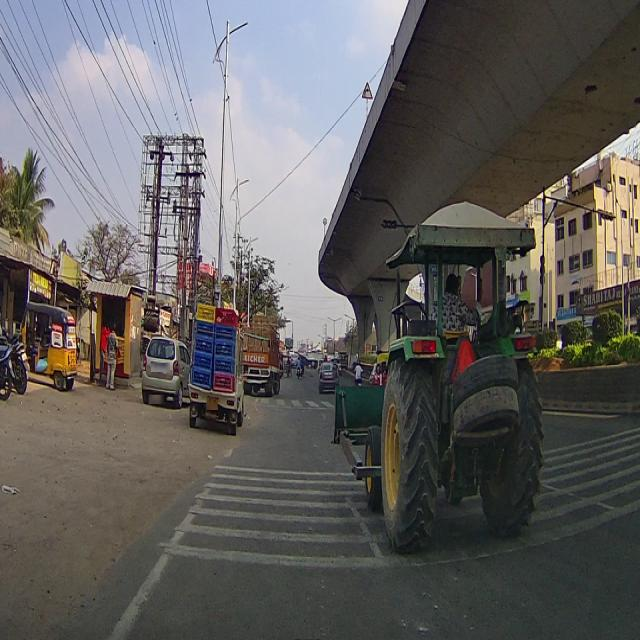right-hand-curve: (362, 78, 374, 98)
